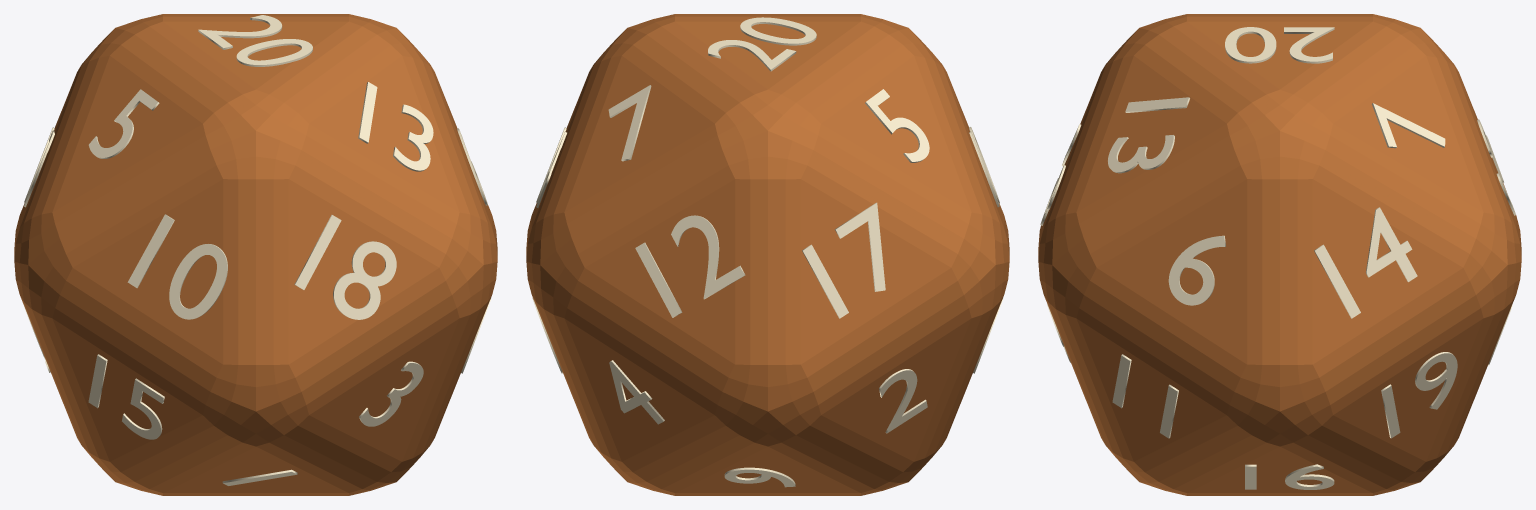
The picture shows the model from 3 angles, left to right: view 1: azimuth 30°, elevation 25°; view 2: azimuth 150°, elevation 25°; view 3: azimuth 270°, elevation 25°; orthographic projection.
Parts seen in each view (by area): view 1: d20_body, d20_numerals; view 2: d20_body, d20_numerals; view 3: d20_body, d20_numerals.
Part boxes in pixels (x1,y1,x2,y2): d20_body: [14, 14, 497, 495]; d20_numerals: [23, 15, 490, 485]; d20_body: [526, 14, 1009, 495]; d20_numerals: [532, 17, 1002, 487]; d20_body: [1038, 14, 1521, 495]; d20_numerals: [1040, 27, 1515, 489].
Size of the model in its own units: 0.6942 by 0.6196 by 0.6379.
